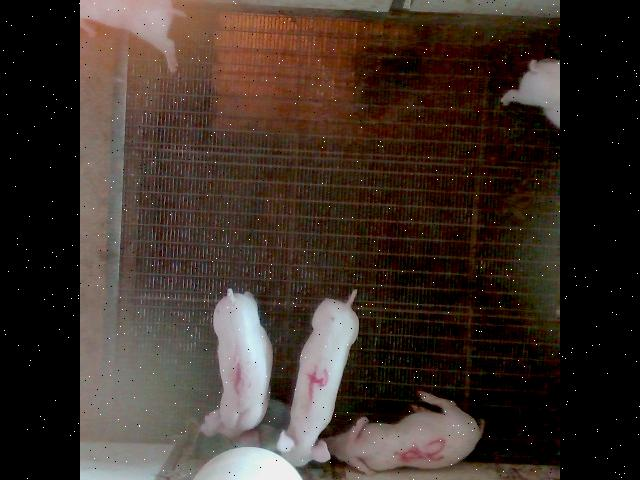pig-1: (200, 289, 272, 446)
pig-4: (278, 289, 359, 465)
pig-5: (326, 390, 484, 474)
